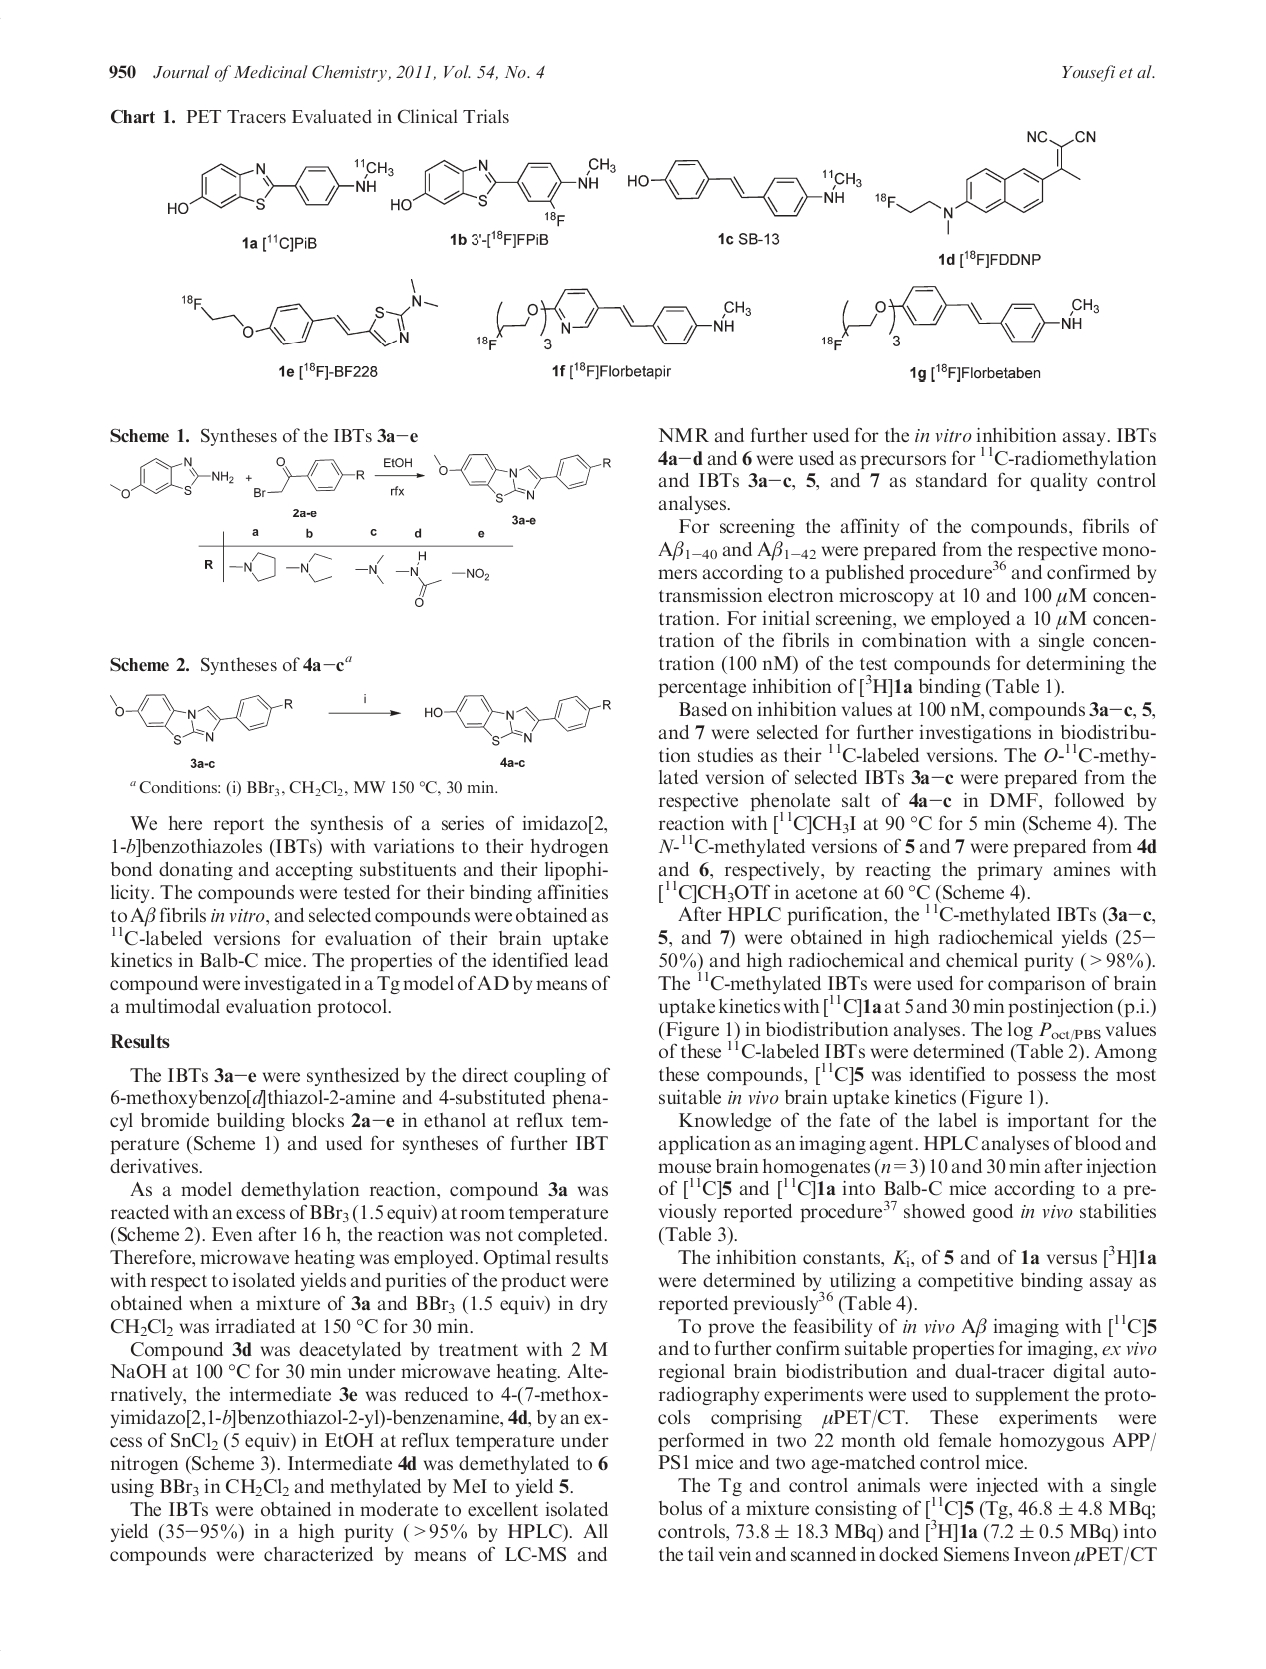exist_molecular: (875, 130, 1098, 239), (821, 277, 1102, 354), (178, 273, 440, 355), (471, 279, 755, 355), (390, 153, 620, 229), (625, 157, 863, 219), (165, 154, 394, 217), (102, 686, 298, 747), (430, 443, 614, 507), (422, 692, 618, 749), (108, 452, 235, 501), (253, 452, 368, 499), (394, 548, 443, 610), (227, 551, 279, 586), (283, 551, 335, 584), (352, 552, 390, 590), (451, 559, 492, 582)
